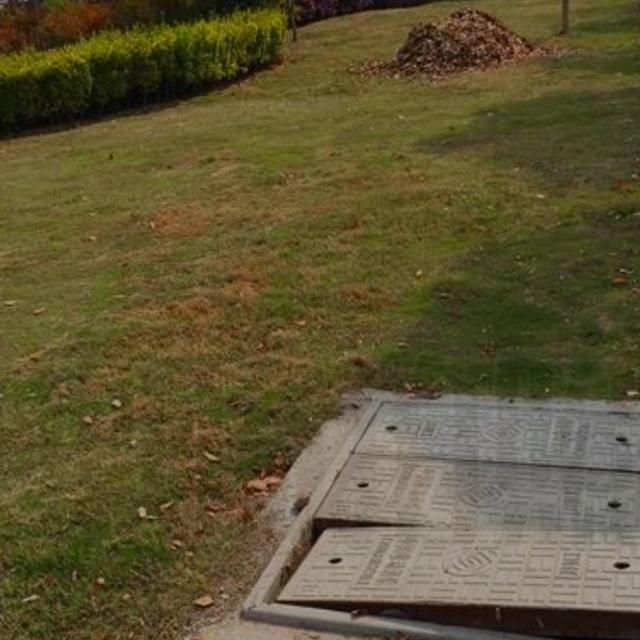uncovered: (235, 390, 640, 640)
